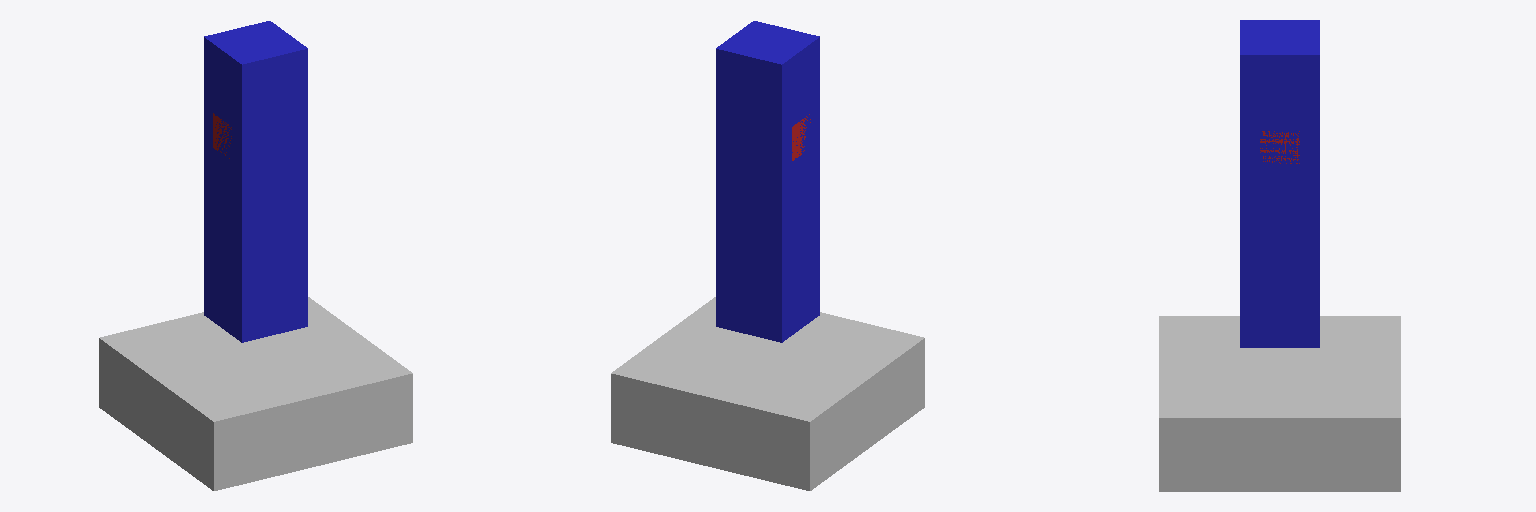
URDF robot description (piklet_bot):
<?xml version="1.0"?>
<robot name="piklet_bot">
  
  <!-- World Link (dummy link to avoid KDL warning) -->
  <link name="world"/>
  
  <!-- Base Link -->
  <link name="base_link">
    <visual>
      <geometry>
        <mesh filename="package://piklet_bot/urdf/meshes/base.dae"/>
      </geometry>
      <material name="base_material">
        <color rgba="0.8 0.8 0.8 1.0"/>
      </material>
    </visual>
    <collision>
      <geometry>
        <box size="0.3 0.3 0.1"/>
      </geometry>
    </collision>
    <inertial>
      <mass value="5.0"/>
      <inertia ixx="0.1" ixy="0.0" ixz="0.0" iyy="0.1" iyz="0.0" izz="0.1"/>
    </inertial>
  </link>
  
  <!-- World to Base Joint -->
  <joint name="world_to_base" type="fixed">
    <parent link="world"/>
    <child link="base_link"/>
    <origin xyz="0 0 0" rpy="0 0 0"/>
  </joint>
  
  <!-- Arm Link -->
  <link name="arm_link">
    <visual>
      <geometry>
        <mesh filename="package://piklet_bot/urdf/meshes/arm.dae"/>
      </geometry>
      <material name="arm_material">
        <color rgba="0.2 0.2 0.8 1.0"/>
      </material>
    </visual>
    <collision>
      <geometry>
        <cylinder radius="0.05" length="0.4"/>
      </geometry>
    </collision>
    <inertial>
      <mass value="2.0"/>
      <inertia ixx="0.05" ixy="0.0" ixz="0.0" iyy="0.05" iyz="0.0" izz="0.01"/>
    </inertial>
  </link>
  
  <!-- Gripper Link -->
  <link name="gripper_link">
    <visual>
      <geometry>
        <mesh filename="package://piklet_bot/urdf/meshes/gripper.dae"/>
      </geometry>
      <material name="gripper_material">
        <color rgba="0.8 0.2 0.2 1.0"/>
      </material>
    </visual>
    <collision>
      <geometry>
        <box size="0.1 0.05 0.05"/>
      </geometry>
    </collision>
    <inertial>
      <mass value="0.5"/>
      <inertia ixx="0.01" ixy="0.0" ixz="0.0" iyy="0.01" iyz="0.0" izz="0.01"/>
    </inertial>
  </link>
  
  <!-- Base to Arm Joint -->
  <joint name="base_to_arm" type="revolute">
    <parent link="base_link"/>
    <child link="arm_link"/>
    <origin xyz="0 0 0.15" rpy="0 0 0"/>
    <axis xyz="0 0 1"/>
    <limit lower="-1.57" upper="1.57" effort="10" velocity="1"/>
  </joint>
  
  <!-- Arm to Gripper Joint -->
  <joint name="arm_to_gripper" type="revolute">
    <parent link="arm_link"/>
    <child link="gripper_link"/>
    <origin xyz="0 0 0.25" rpy="0 0 0"/>
    <axis xyz="0 0 1"/>
    <limit lower="-1.57" upper="1.57" effort="10" velocity="1"/>
  </joint>
  
</robot>

--- Render facts (derived) ---
The picture shows the robot from 3 angles, left to right: view 1: azimuth 30°, elevation 25°; view 2: azimuth 150°, elevation 25°; view 3: azimuth 270°, elevation 25°; orthographic projection.
Model piklet_bot with 4 links and 3 joints (2 revolute, 1 fixed), rooted at world, posed all joints at 0.
Visible links, largest first — view 1: base_link, arm_link; view 2: base_link, arm_link; view 3: base_link, arm_link.
Link boxes in pixels (x1,y1,x2,y2): base_link: (99, 297, 412, 490); arm_link: (204, 21, 307, 342); base_link: (611, 297, 924, 490); arm_link: (716, 21, 819, 342); base_link: (1159, 316, 1400, 491); arm_link: (1240, 20, 1319, 347).
Size in the robot's own frame: 0.3 by 0.3 by 0.55 metres.
3 mesh visuals loaded from 3 distinct referenced files (3 Collada DAE).